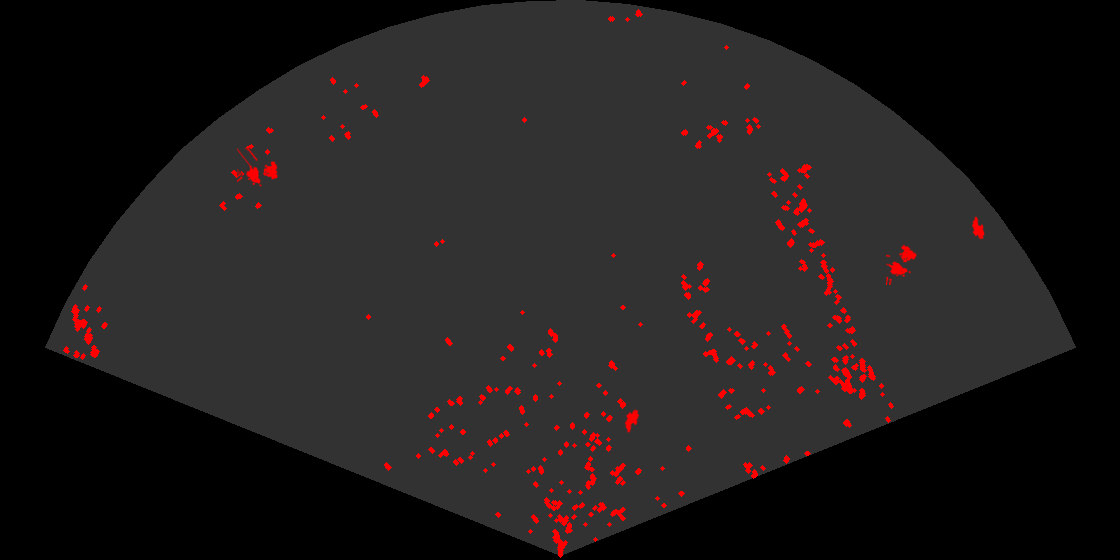AUV: (623, 408, 641, 435), (971, 215, 986, 241)
cage: (237, 148, 280, 188), (886, 243, 918, 285)
